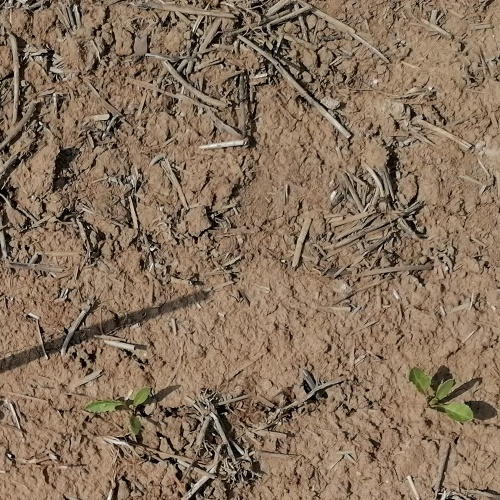beet: (411, 367, 474, 420), (83, 386, 151, 435)
